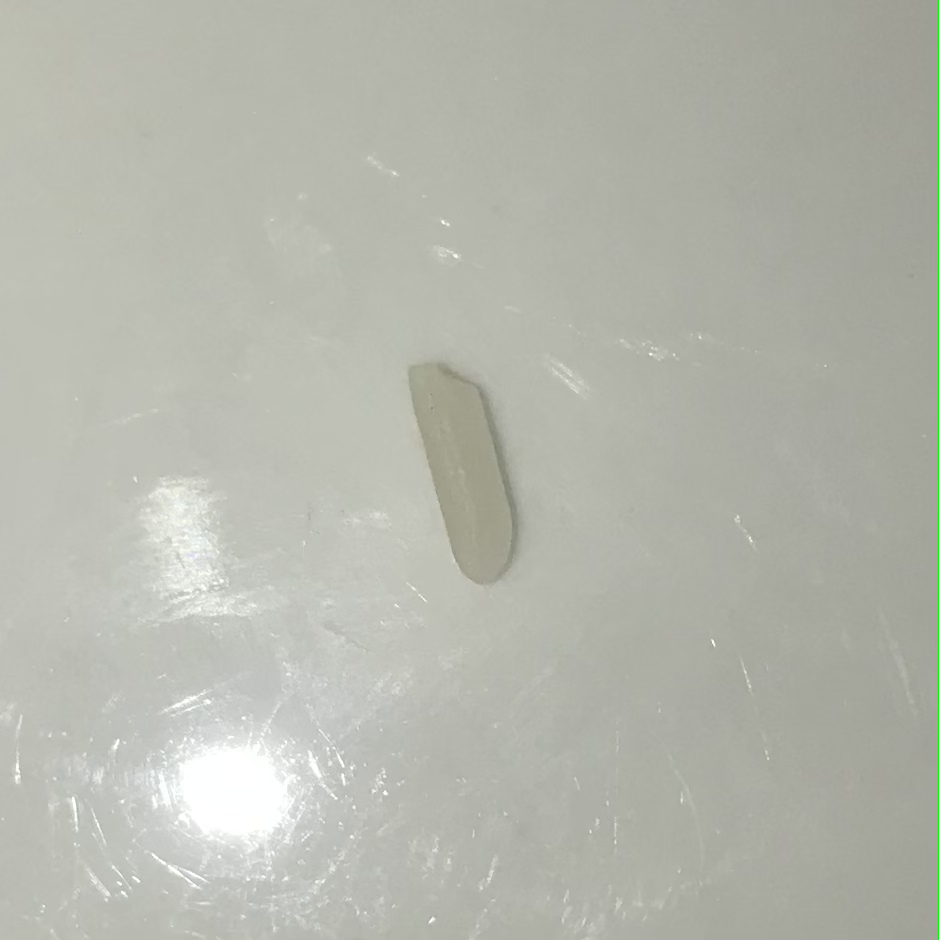Gao Thom Go Cong: (380, 341, 565, 612)
